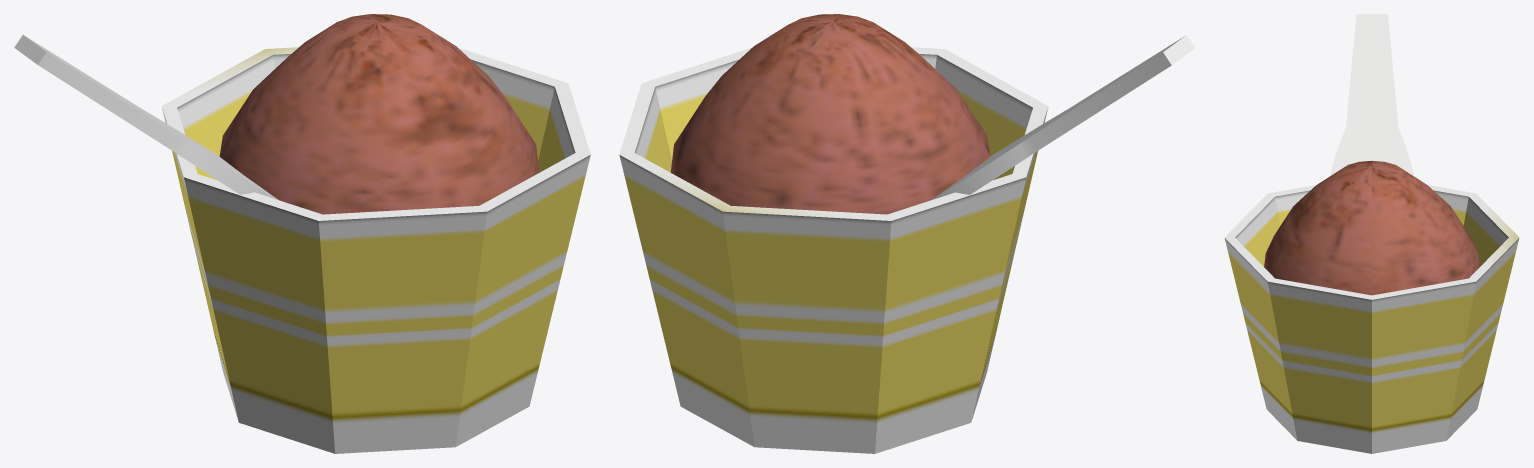
The model's file is IceCream_CupD.fbx.
The picture shows the model from 3 angles, left to right: view 1: azimuth 30°, elevation 25°; view 2: azimuth 150°, elevation 25°; view 3: azimuth 270°, elevation 25°; orthographic projection. The views are drawn at different scales.
Parts seen in each view (by area): view 1: IceCupD, IceCream_CupD, IceCreamSpoonD; view 2: IceCupD, IceCream_CupD, IceCreamSpoonD; view 3: IceCupD, IceCream_CupD, IceCreamSpoonD.
Boxes of the visible parts, x1,y1,x2,y2 form: IceCupD: (161, 47, 590, 453); IceCream_CupD: (219, 14, 539, 214); IceCreamSpoonD: (14, 35, 277, 199); IceCupD: (619, 47, 1048, 453); IceCream_CupD: (670, 14, 990, 214); IceCreamSpoonD: (932, 35, 1195, 199); IceCupD: (1224, 185, 1519, 453); IceCream_CupD: (1264, 160, 1479, 295); IceCreamSpoonD: (1330, 14, 1414, 176).
Bounding box in the file's own units: 163 × 123 × 115.
